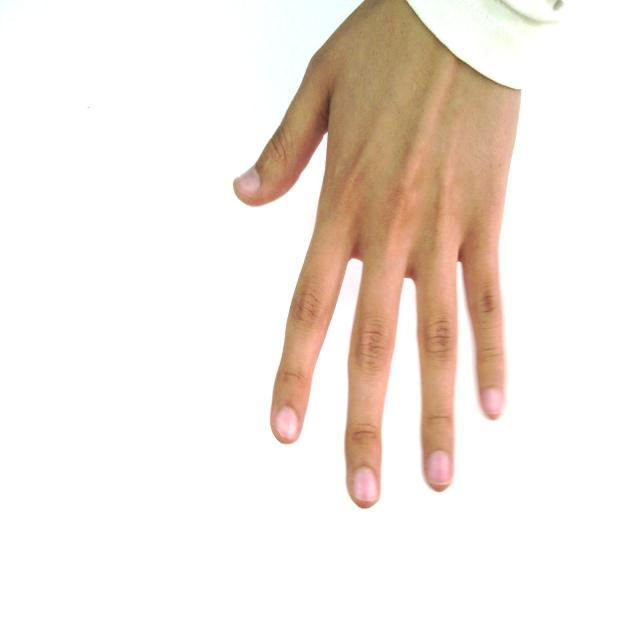Fingernail: (353, 467, 377, 501), (427, 451, 450, 484), (276, 407, 297, 439), (236, 169, 261, 193), (483, 389, 502, 414)
